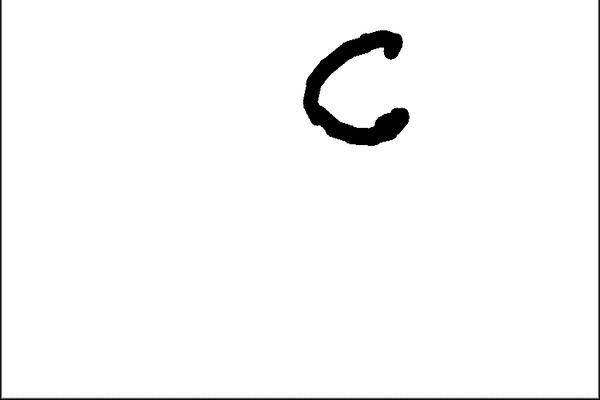C: (297, 22, 414, 150)
